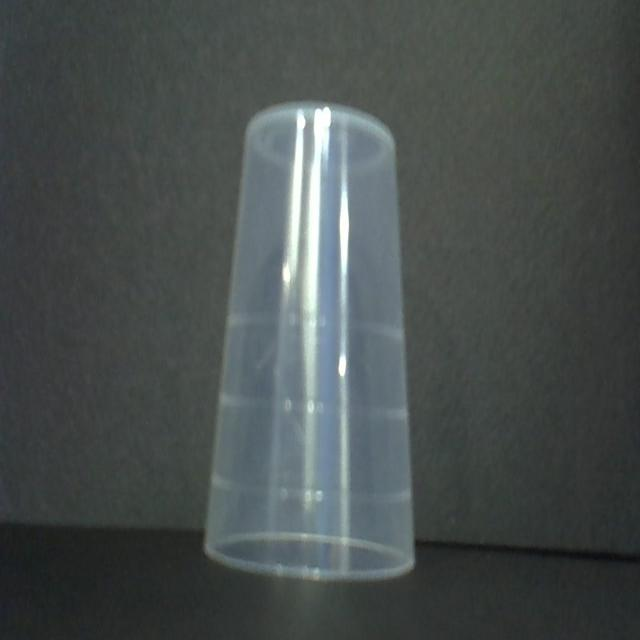cup: (202, 98, 425, 582)
